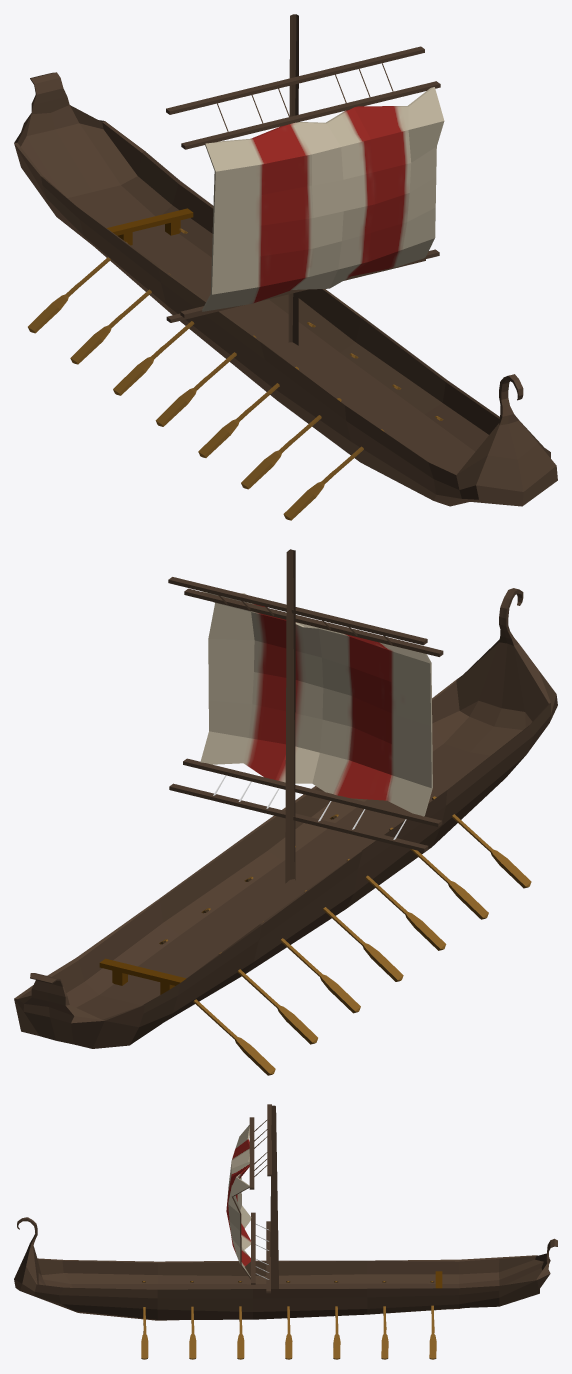
The model's file is RemosASeparar.fbx.
3 views of the same model, one above another, from view 1: azimuth 30°, elevation 25°; view 2: azimuth 150°, elevation 25°; view 3: azimuth 270°, elevation 25° (orthographic). The views are drawn at different scales.
Visible parts, largest first — view 1: Corpo, PanoVela, SuporteCima1, SuporteCima2, Varão, Cube, Remo14.004, Remo14.003, Remo14.005, Remo14.006, Remo14.002, Remo14.001 (+1 smaller); view 2: Corpo, PanoVela, Varão, SuporteCima1, SuporteBaixo1, SuporteBaixo2, SuporteCima2, Cube, Remo14.006, Remo14.004, Remo14.007, Remo14.003 (+3 smaller); view 3: Corpo, PanoVela, Varão, SuporteCima2, SuporteCima1, SuporteBaixo1, SuporteBaixo2.
Boxes of the visible parts, left/top/right/bottom form: Corpo: left=14, top=72, right=557, bottom=506; PanoVela: left=202, top=87, right=444, bottom=311; SuporteCima1: left=166, top=46, right=424, bottom=114; SuporteCima2: left=181, top=81, right=440, bottom=149; Varão: left=288, top=14, right=298, bottom=345; Cube: left=107, top=208, right=193, bottom=245; Remo14.004: left=198, top=366, right=298, bottom=457; Remo14.003: left=155, top=335, right=256, bottom=426; Remo14.005: left=241, top=398, right=341, bottom=489; Remo14.006: left=28, top=242, right=127, bottom=333; Remo14.002: left=113, top=321, right=194, bottom=395; Remo14.001: left=70, top=273, right=170, bottom=364; Corpo: left=14, top=588, right=557, bottom=1048; PanoVela: left=200, top=591, right=432, bottom=816; Varão: left=285, top=549, right=295, bottom=883; SuporteCima1: left=168, top=577, right=427, bottom=645; SuporteBaixo1: left=183, top=758, right=442, bottom=826; SuporteBaixo2: left=169, top=783, right=428, bottom=852; SuporteCima2: left=184, top=588, right=443, bottom=656; Cube: left=99, top=958, right=186, bottom=994; Remo14.006: left=193, top=999, right=275, bottom=1075; Remo14.004: left=347, top=859, right=446, bottom=950; Remo14.007: left=432, top=796, right=531, bottom=888; Remo14.003: left=304, top=890, right=403, bottom=981; Corpo: left=14, top=1217, right=557, bottom=1320; PanoVela: left=226, top=1125, right=251, bottom=1279; Varão: left=270, top=1105, right=278, bottom=1288; SuporteCima2: left=249, top=1117, right=254, bottom=1189; SuporteCima1: left=267, top=1104, right=271, bottom=1176; SuporteBaixo1: left=251, top=1212, right=255, bottom=1284; SuporteBaixo2: left=266, top=1221, right=270, bottom=1293.
Bounding box in the file's own units: 206 × 301 × 675.
